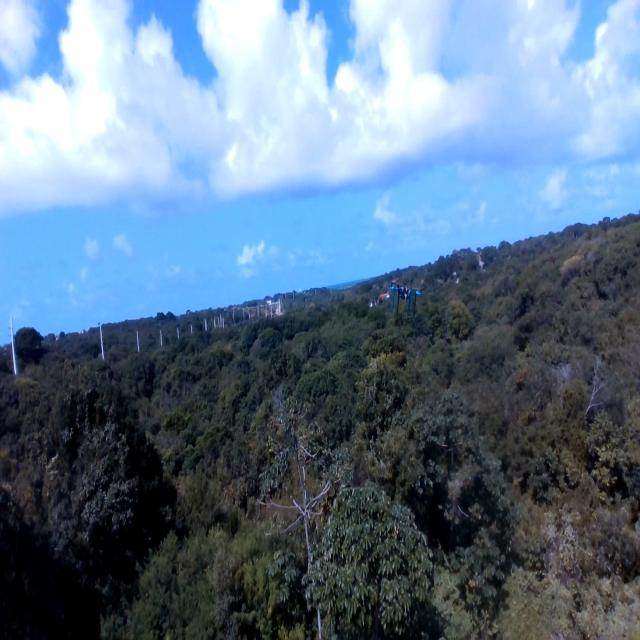-uav-: (375, 264, 431, 328)
